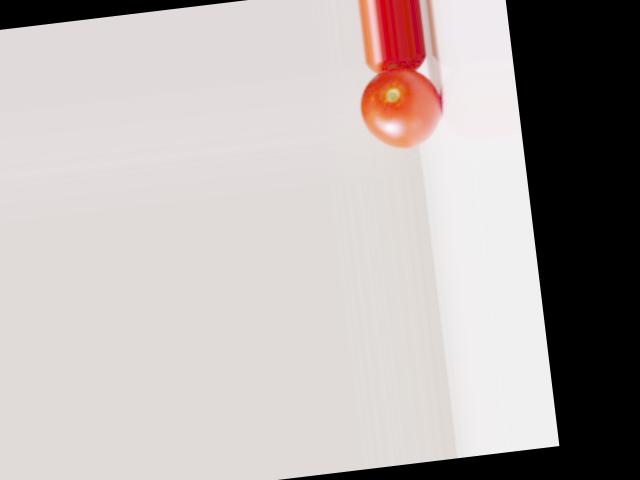tomato: (356, 63, 445, 152)
